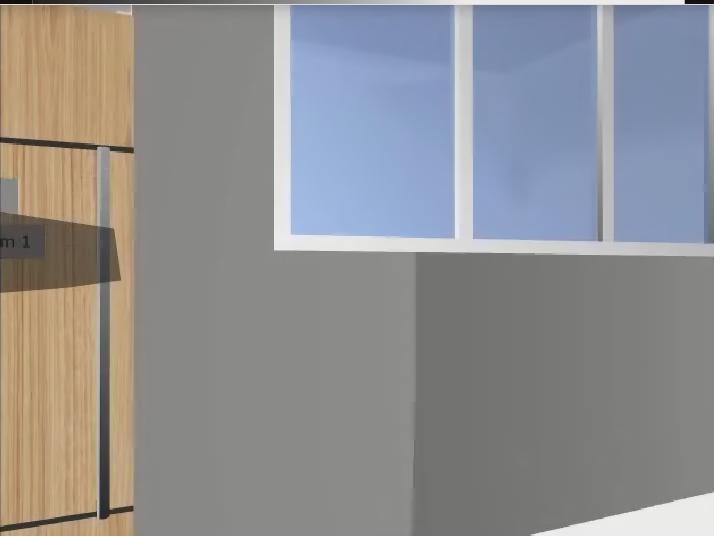door: (1, 5, 133, 536)
